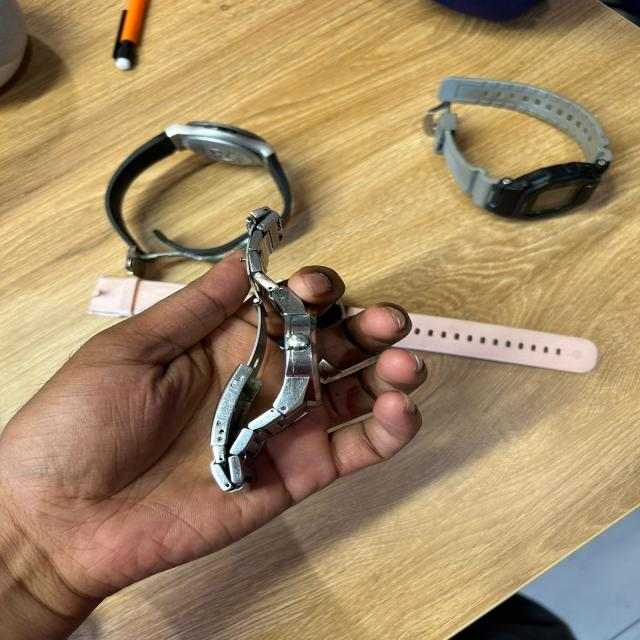watch: (422, 74, 613, 221)
